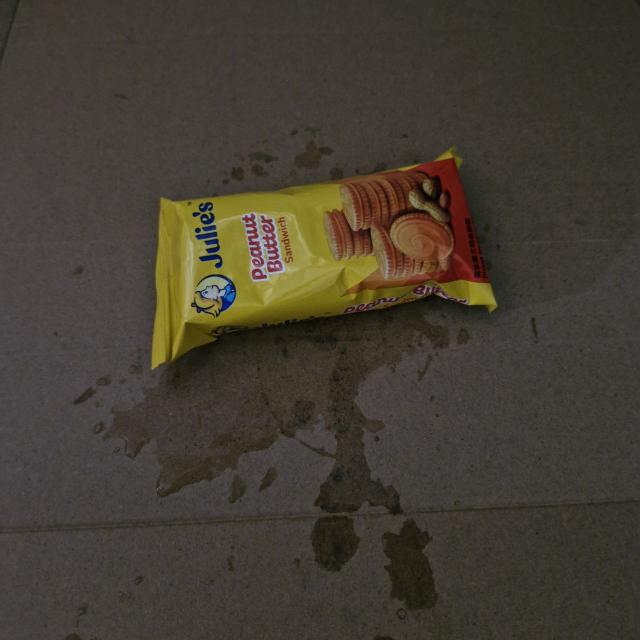plastic: (140, 140, 504, 370)
